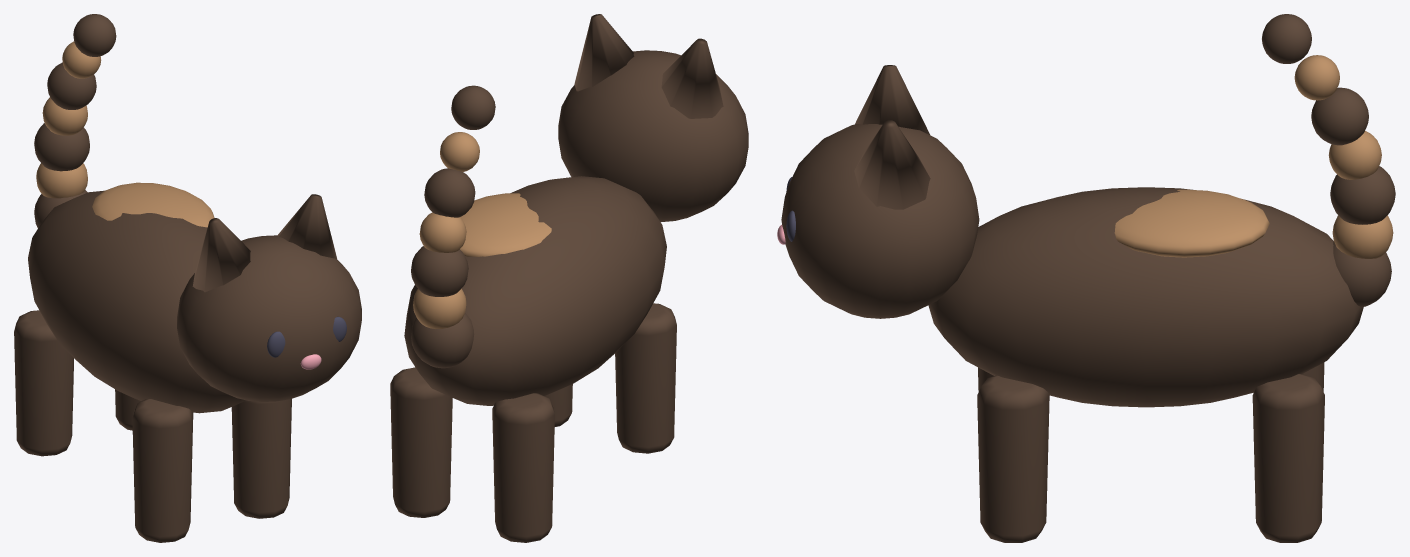
The model's file is cat_walk.glb.
3 renders of one model, left to right at view 1: azimuth 30°, elevation 25°; view 2: azimuth 150°, elevation 25°; view 3: azimuth 270°, elevation 25°, orthographic. The views are drawn at different scales.
Visible parts, largest first — view 1: cat_walk; view 2: cat_walk; view 3: cat_walk.
Part boxes in pixels (bbox=[...]): cat_walk: bbox=[14, 14, 361, 542]; cat_walk: bbox=[390, 14, 748, 542]; cat_walk: bbox=[777, 14, 1395, 542].
Size of the model in its own units: 0.243 by 0.5709 by 0.6511.
